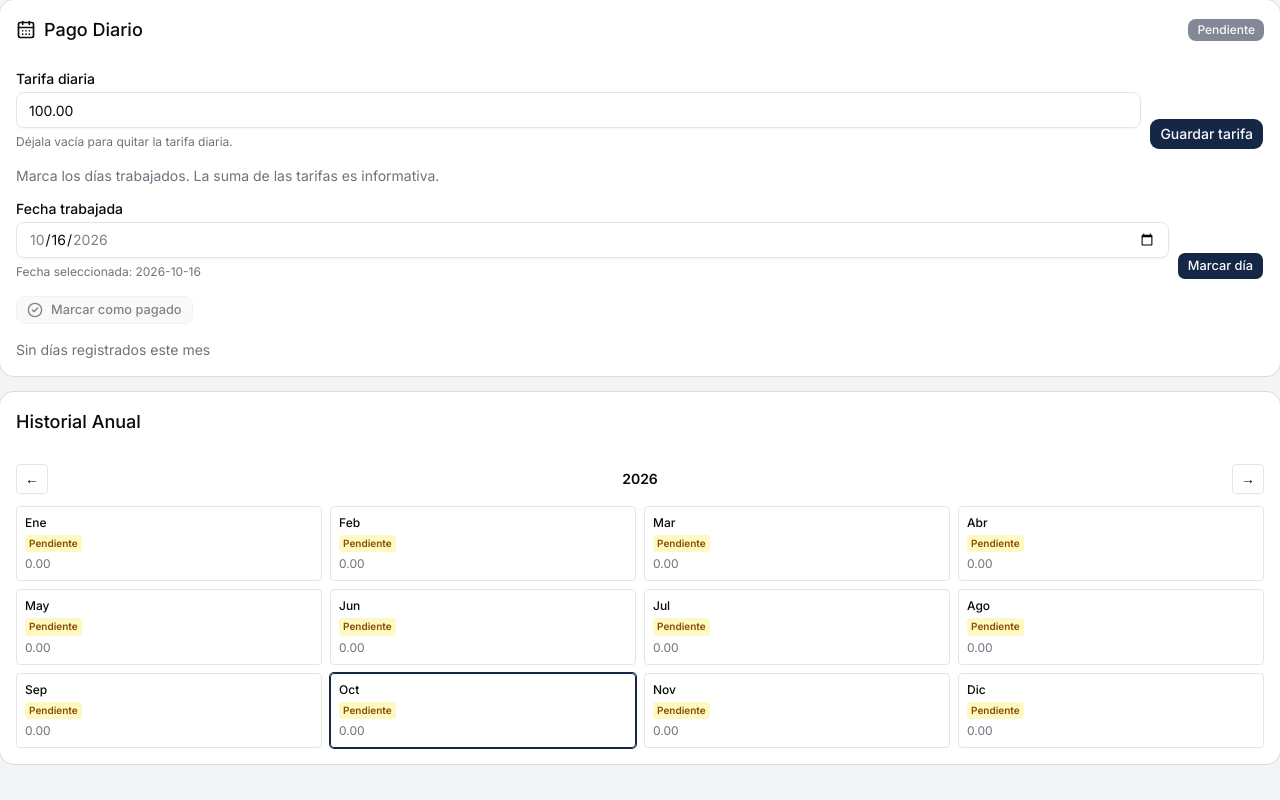
DailyPayPanel › muestra el mensaje de error devuelto al actualizar un día
This screenshot has width=1280, height=800.
Expected: the date field labelled "Fecha trabajada" is shown, [16,222,1169,258]
Click the button "Marcar día": [1220, 266] box [1177,252,1264,280]
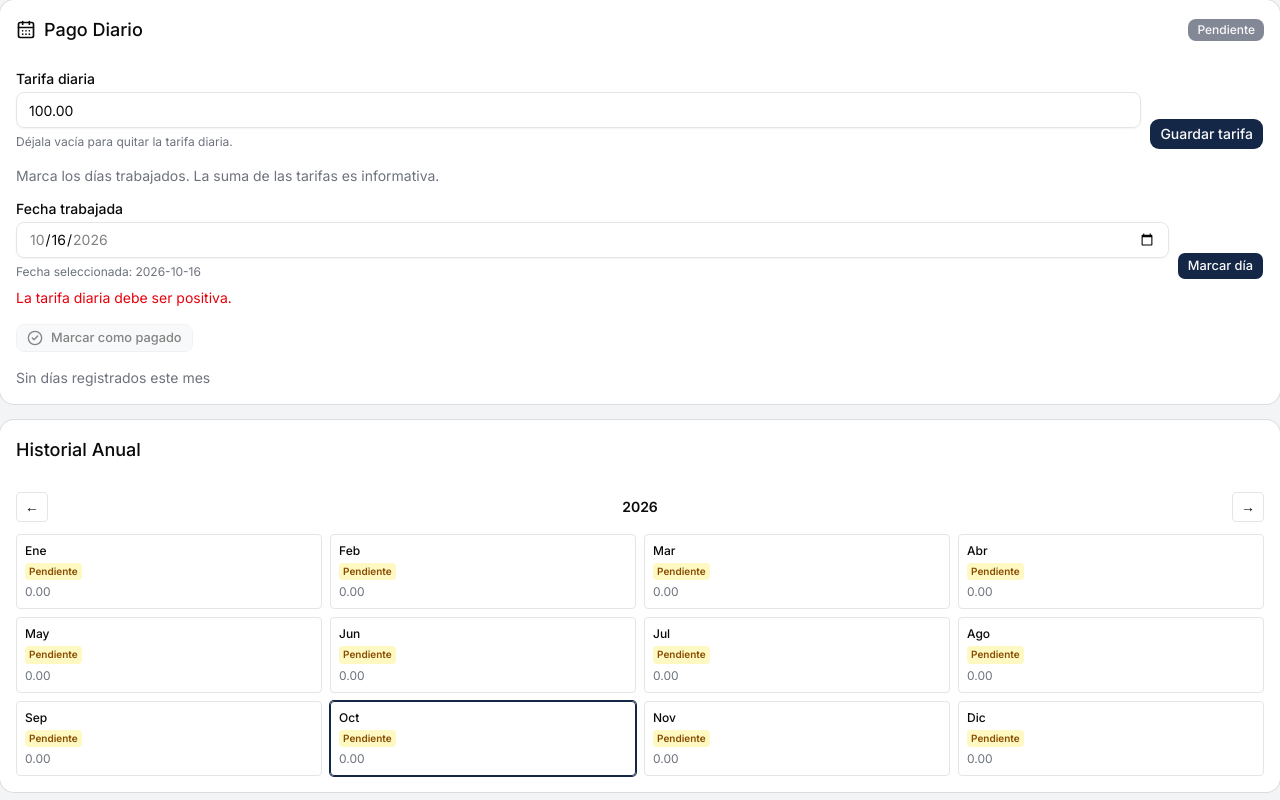
Now the message reads "La tarifa diaria debe ser positiva.", box [16,289,232,306]
